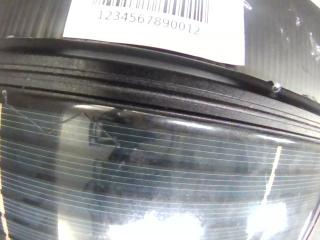crack: (116, 161, 124, 170)
scratch: (10, 106, 120, 148)
solarboard: (0, 104, 320, 240)
